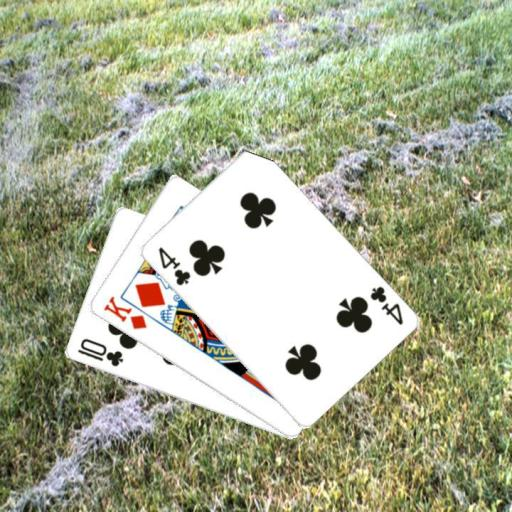10C: (74, 335, 124, 368)
4C: (366, 283, 404, 327), (154, 244, 192, 287)
KD: (100, 293, 148, 331)
